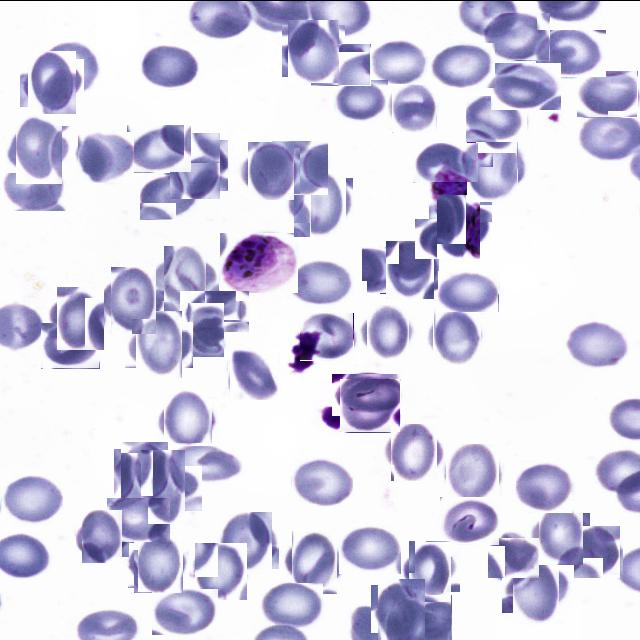red blood cell: (462, 135, 524, 197), (133, 457, 194, 518), (290, 173, 349, 233), (508, 559, 566, 618), (218, 514, 276, 572), (285, 21, 342, 79), (166, 136, 224, 193), (11, 120, 68, 178), (340, 378, 401, 432), (536, 29, 606, 76), (491, 62, 561, 109), (169, 442, 247, 484), (1, 160, 66, 210), (130, 316, 188, 372), (106, 270, 162, 328), (563, 320, 630, 368), (483, 12, 550, 60), (160, 392, 217, 448), (40, 39, 98, 94), (2, 474, 64, 525), (152, 588, 219, 635), (52, 290, 108, 346), (24, 54, 80, 110), (127, 124, 192, 172), (444, 444, 500, 499), (131, 535, 186, 590), (158, 251, 213, 306), (374, 580, 428, 636), (260, 582, 323, 630), (118, 444, 172, 500), (272, 140, 328, 194), (289, 259, 354, 305), (339, 525, 401, 573), (429, 308, 484, 362), (382, 242, 437, 296), (440, 496, 500, 545), (332, 373, 402, 415), (180, 290, 250, 332), (288, 534, 342, 588), (194, 544, 248, 598), (432, 199, 486, 253), (516, 460, 572, 512), (389, 594, 452, 640), (107, 497, 171, 542), (431, 42, 495, 87), (292, 458, 353, 505), (577, 70, 638, 117), (78, 131, 134, 182), (464, 95, 526, 141), (362, 246, 421, 293), (140, 44, 202, 88), (41, 322, 100, 368), (388, 426, 440, 478), (244, 144, 296, 196), (370, 39, 430, 84), (140, 174, 199, 219), (404, 544, 456, 595), (413, 142, 479, 182), (438, 270, 500, 312), (300, 312, 354, 360), (536, 509, 586, 560), (311, 43, 371, 85), (229, 349, 279, 399), (572, 526, 621, 576), (363, 306, 412, 356), (389, 81, 439, 130), (415, 218, 476, 258), (334, 79, 388, 122), (79, 512, 126, 559), (491, 534, 537, 580), (188, 302, 224, 356)
schizont: (220, 232, 298, 292), (429, 165, 493, 222)
